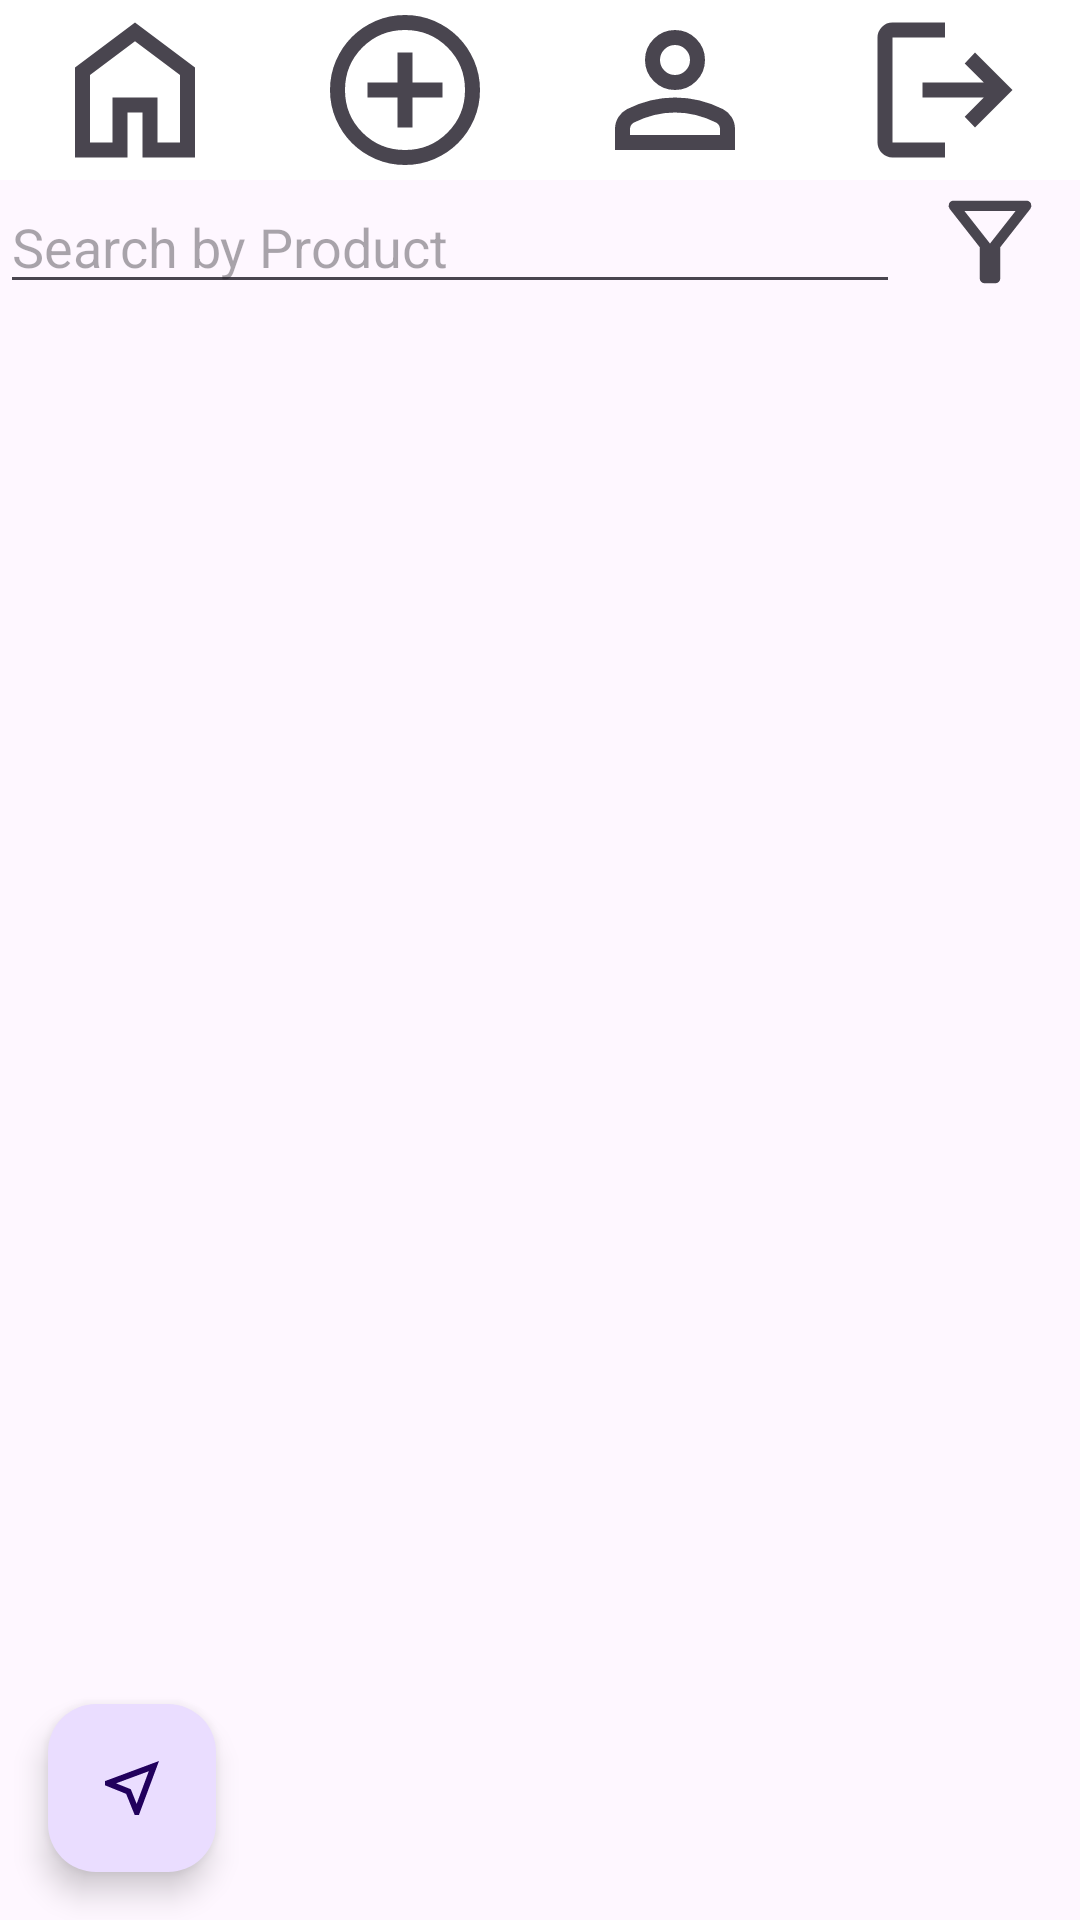

Icons on this 1080×1920 Android screen, each with its box as (x1, y1, x2, y2):
filter: (948, 200, 1032, 284)
nearme: (48, 1704, 216, 1872)
open add parking button: (330, 15, 480, 165)
open home button: (75, 22, 195, 158)
open profile button: (615, 30, 735, 150)
